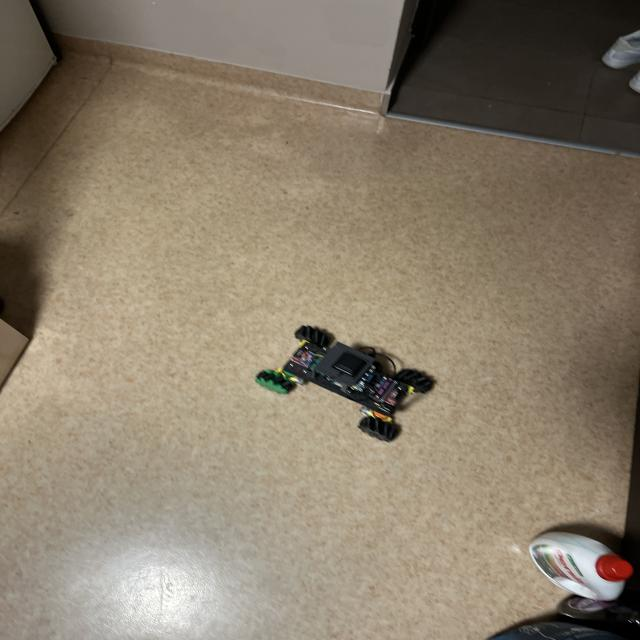robot: (255, 325, 434, 441)
